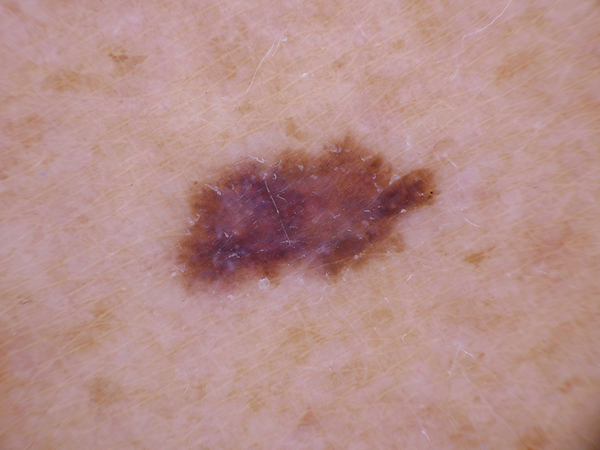Detected Lesion: (178, 135, 442, 291)
